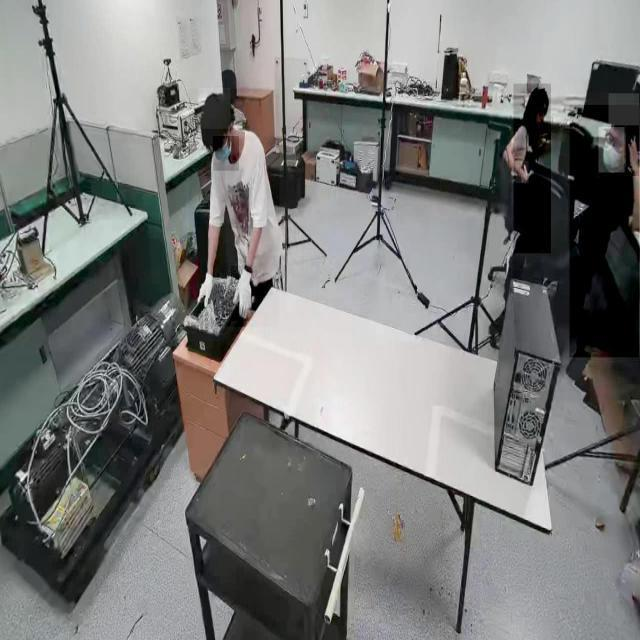gloves: (231, 266, 255, 322), (198, 270, 214, 305)
